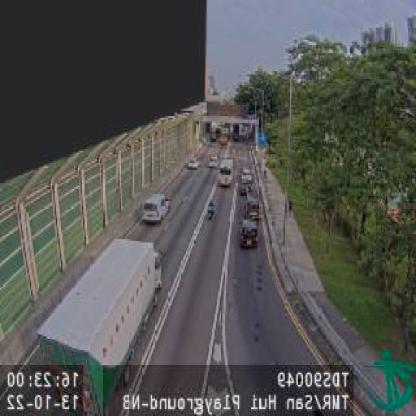Car: (140, 194, 171, 225), (240, 219, 256, 251), (245, 196, 262, 219), (219, 162, 233, 188), (240, 168, 252, 184), (187, 158, 199, 170), (209, 155, 217, 167)
Truck: (38, 237, 165, 409)
